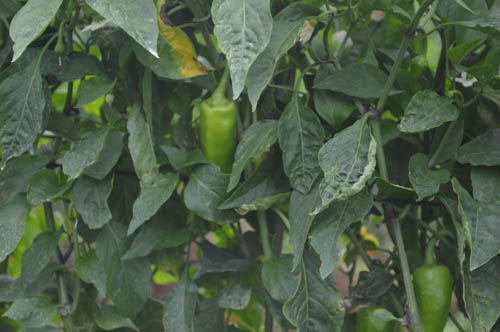ChiliPepper: (197, 100, 236, 169), (411, 268, 453, 330)
